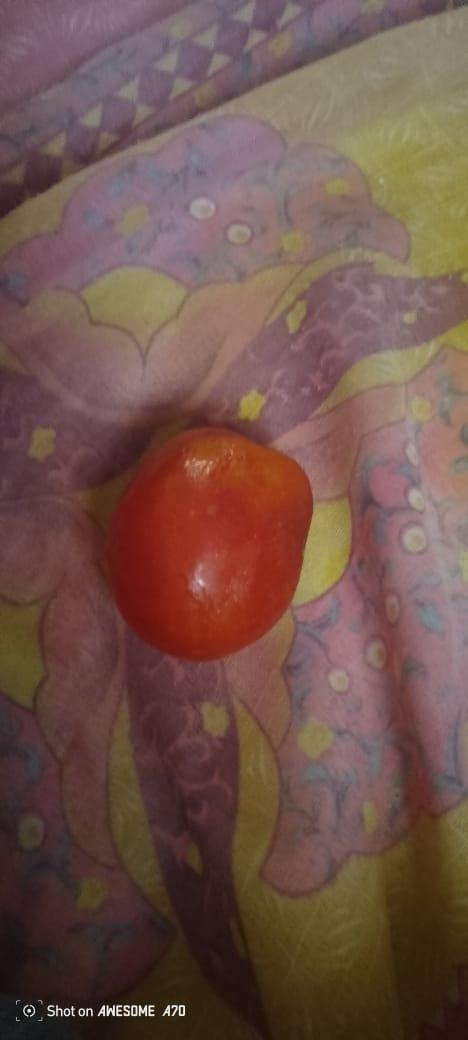non-mango: (103, 431, 318, 663)
